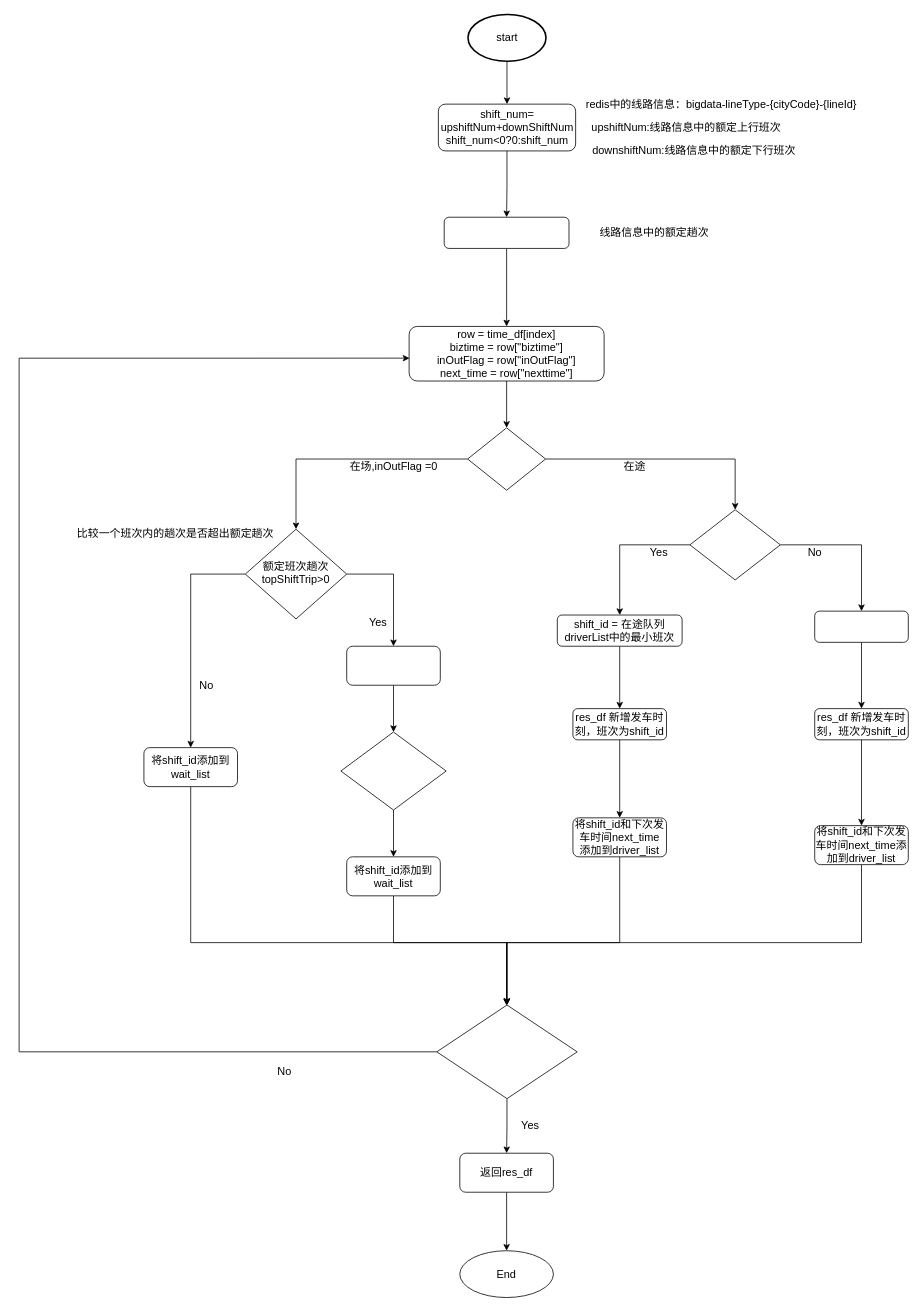
This 922x1311 diagram has some shape labels left out. The centre of each missing label's shape, as x and y in pixels:
"index>time_df.size?" goes at pixel 506 1051.
"shift_id = shift_num+1" goes at pixel 861 626.
"topShiftTrip = 额定趟次" goes at pixel 506 232.
"trip_id<topShiftTrip?" goes at pixel 393 770.
"候车队列 waitList 是否有数据？" goes at pixel 734 544.
"是否在场？" goes at pixel 506 458.
"第一次trip_id=1， 后续trip_id+=1" goes at pixel 393 665.
